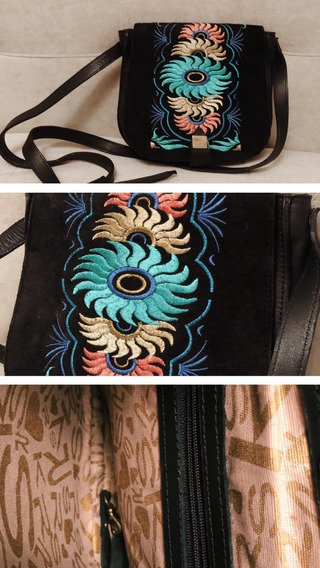cartera: (111, 16, 296, 176)
